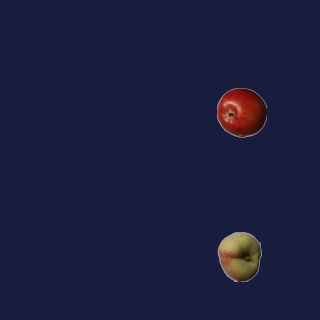Apple Braeburn: (216, 87, 266, 137)
Peach Flat: (214, 231, 264, 281)
